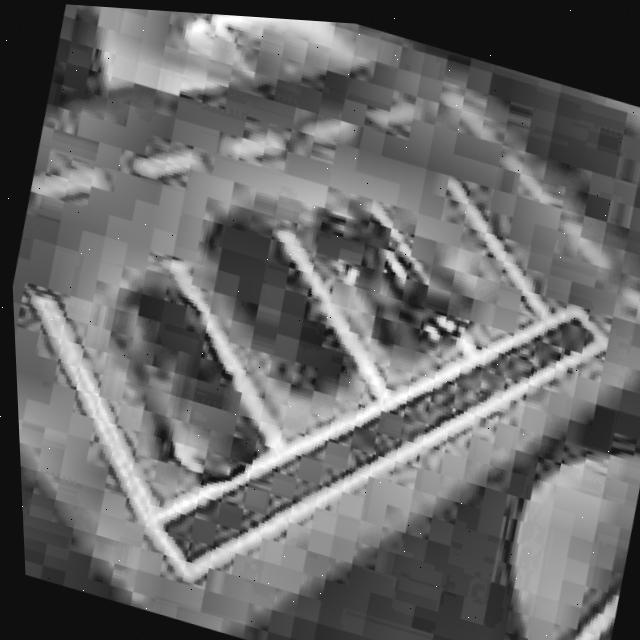car: (64, 261, 292, 500), (145, 183, 382, 410), (270, 174, 481, 380)
